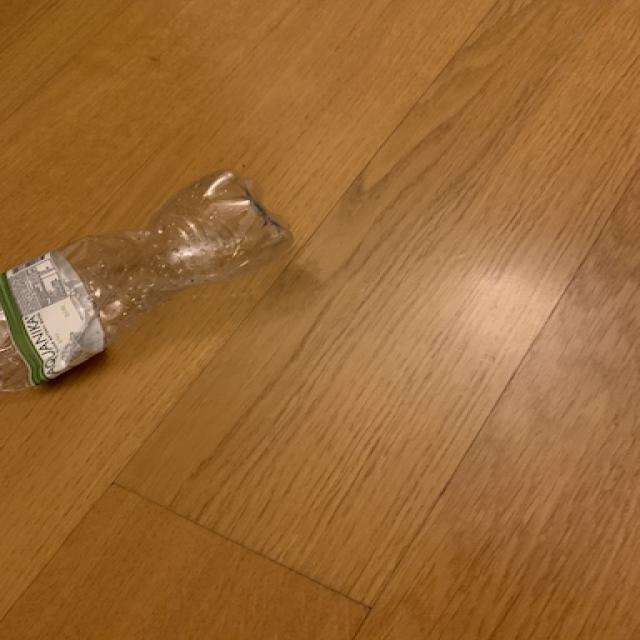litter: (3, 162, 305, 392)
